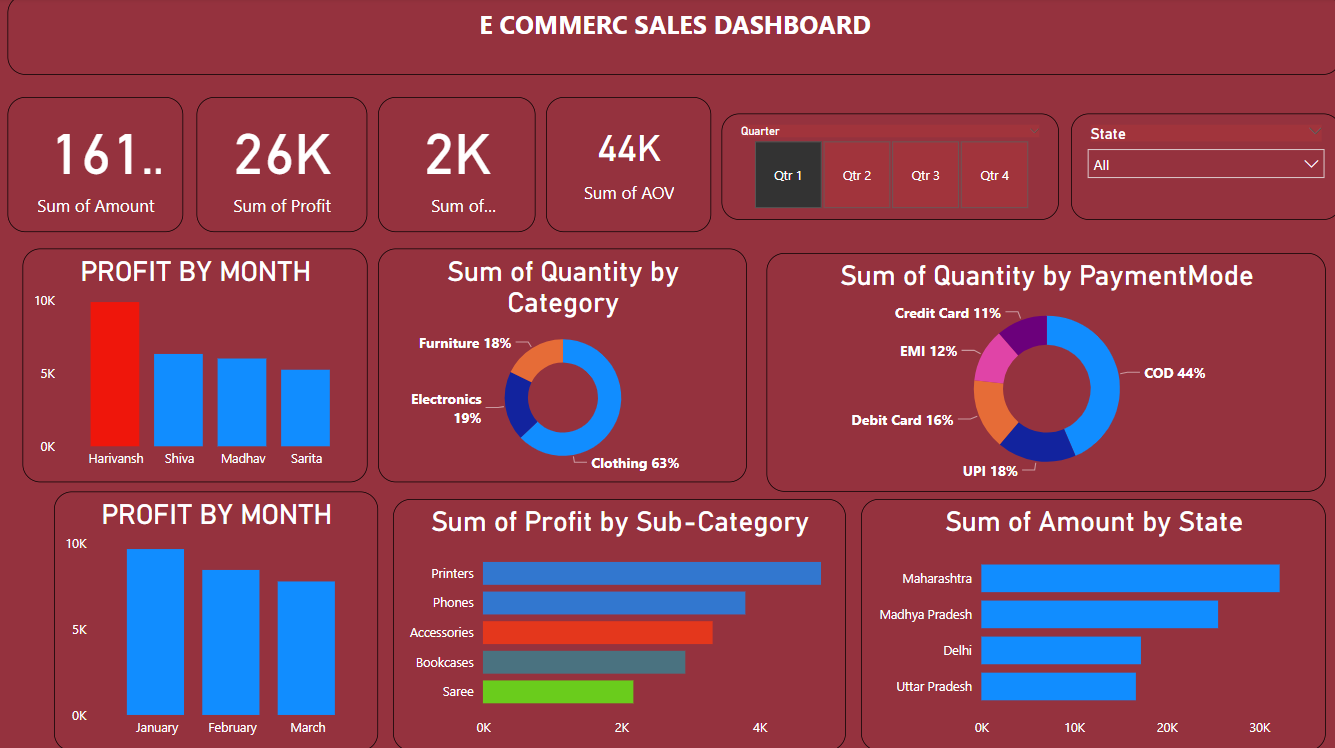

The page's visual inventory and layout, read from the dashboard file:
{"tool":"powerbi","page":{"name":"Page 1","canvas":[1280,720],"ordinal":0},"visuals":[{"type":"textbox","box":[10,0,1270,75.7],"z":0},{"type":"columnChart","title":"PROFIT BY MONTH","fields":{"Y":["DETAILS.Profit"],"Category":["ORDERS.Order Date.Variation.Date Hierarchy.Month"]},"box":[54.3,472.9,308.6,247.1],"z":1000},{"type":"barChart","fields":{"Category":["DETAILS.Sub-Category"],"Y":["DETAILS.Profit"]},"box":[377.1,480,431.4,240],"z":2000},{"type":"donutChart","fields":{"Y":["DETAILS.Quantity"],"Category":["DETAILS.Category"]},"box":[362.9,241.4,351.4,222.9],"z":3000},{"type":"donutChart","fields":{"Y":["DETAILS.Quantity"],"Category":["DETAILS.PaymentMode"]},"box":[732.9,245.7,532.9,227.1],"z":4000},{"type":"cardVisual","fields":{"Data":["DETAILS.Profit"]},"box":[190,97.1,162.9,128.6],"z":5000},{"type":"cardVisual","fields":{"Data":["DETAILS.Amount"]},"box":[10,97.1,167.1,128.6],"z":6000},{"type":"cardVisual","fields":{"Data":["DETAILS.Quantity"]},"box":[362.9,97.1,150,128.6],"z":7000},{"type":"cardVisual","fields":{"Data":["DETAILS.AOV"]},"box":[522.9,97.1,157.1,128.6],"z":8000},{"type":"barChart","fields":{"Category":["ORDERS.State"],"Y":["DETAILS.Amount"]},"box":[822.9,480,442.9,240],"z":9000},{"type":"columnChart","title":"PROFIT BY MONTH","fields":{"Y":["DETAILS.Amount"],"Category":["ORDERS.CustomerName"]},"box":[24.3,241.4,328.6,222.9],"z":10000},{"type":"slicer","fields":{"Values":["ORDERS.Order Date.Variation.Date Hierarchy.Quarter"]},"box":[690,112.9,321.4,101.4],"z":11000},{"type":"slicer","fields":{"Values":["ORDERS.State"]},"box":[1022.9,112.9,257.1,101.4],"z":12000}]}

Visuals, with their boxes in screenshot pixels (x1, y1, x2, y2), scaled from the page's 1280x720 canvas onto the 1335x748 screenshot:
textbox: box(10, 0, 1334, 79)
"PROFIT BY MONTH" columnChart: box(57, 491, 378, 747)
barChart - DETAILS.Sub-Category x DETAILS.Profit: box(393, 499, 843, 747)
donutChart - DETAILS.Quantity x DETAILS.Category: box(378, 251, 745, 482)
donutChart - DETAILS.Quantity x DETAILS.PaymentMode: box(764, 255, 1320, 491)
cardVisual - DETAILS.Profit: box(198, 101, 368, 234)
cardVisual - DETAILS.Amount: box(10, 101, 185, 234)
cardVisual - DETAILS.Quantity: box(378, 101, 535, 234)
cardVisual - DETAILS.AOV: box(545, 101, 709, 234)
barChart - ORDERS.State x DETAILS.Amount: box(858, 499, 1320, 747)
"PROFIT BY MONTH" columnChart: box(25, 251, 368, 482)
slicer - ORDERS.Order Date.Variation.Date Hierarchy.Quarter: box(720, 117, 1055, 223)
slicer - ORDERS.State: box(1067, 117, 1334, 223)
